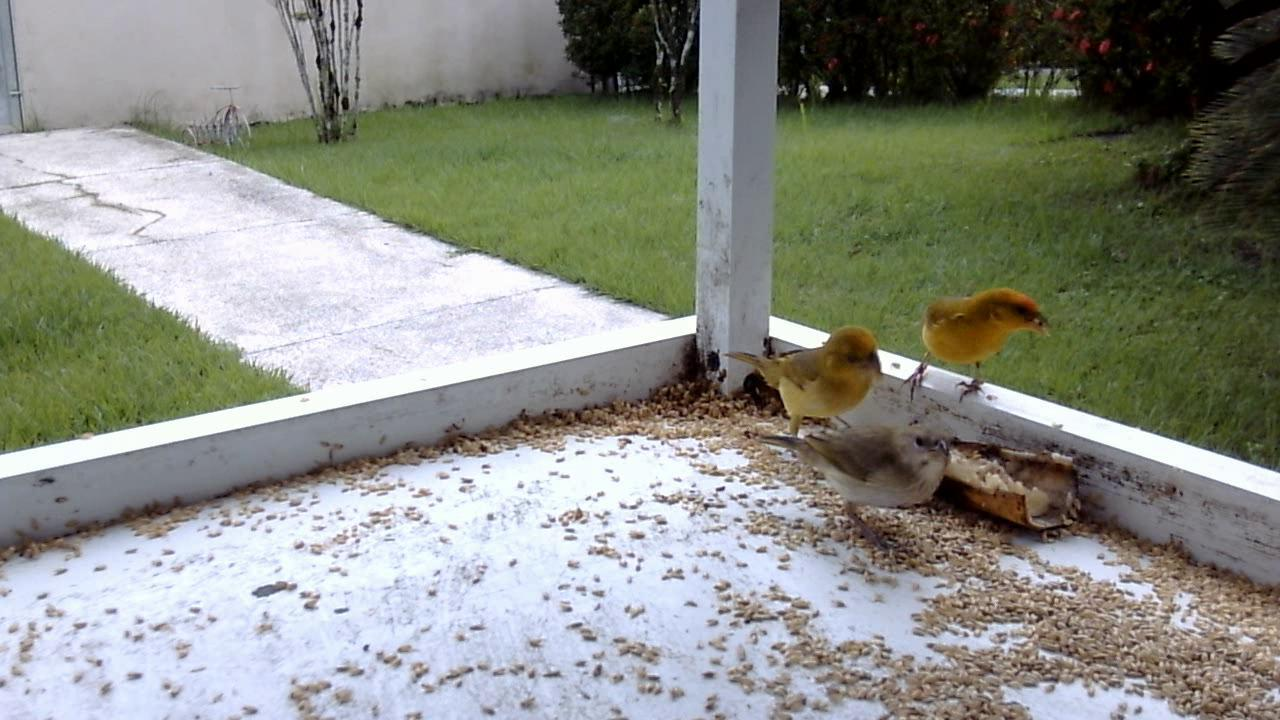canario_do_amazonas: (745, 419, 966, 552), (893, 282, 1054, 417), (725, 322, 884, 444)
